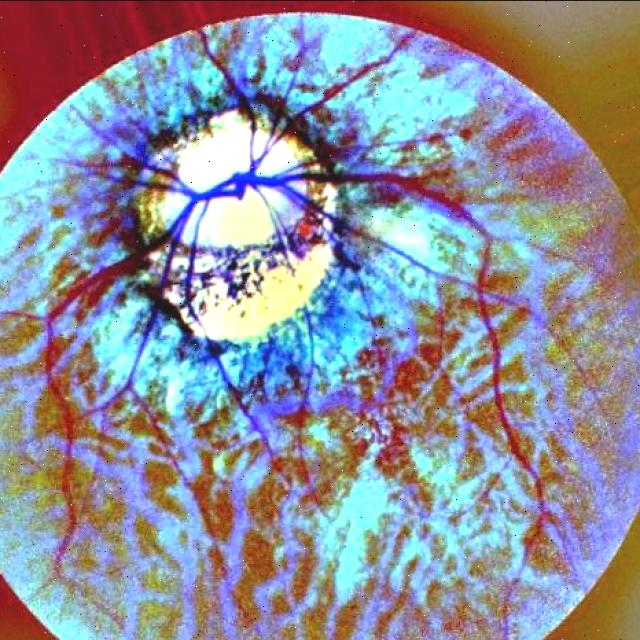Nerves: (169, 150, 308, 229)
Optic Disk: (135, 108, 336, 341)
